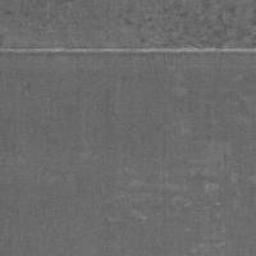Welding line: (0, 45, 256, 55)
